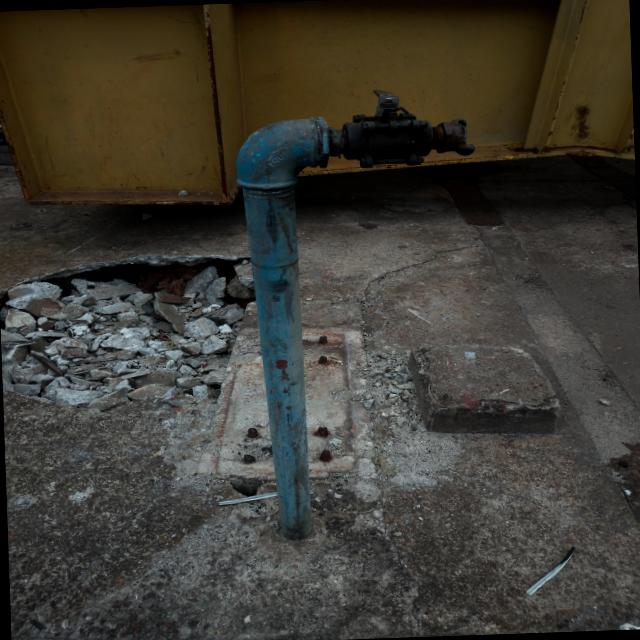gas: (239, 119, 325, 533)
